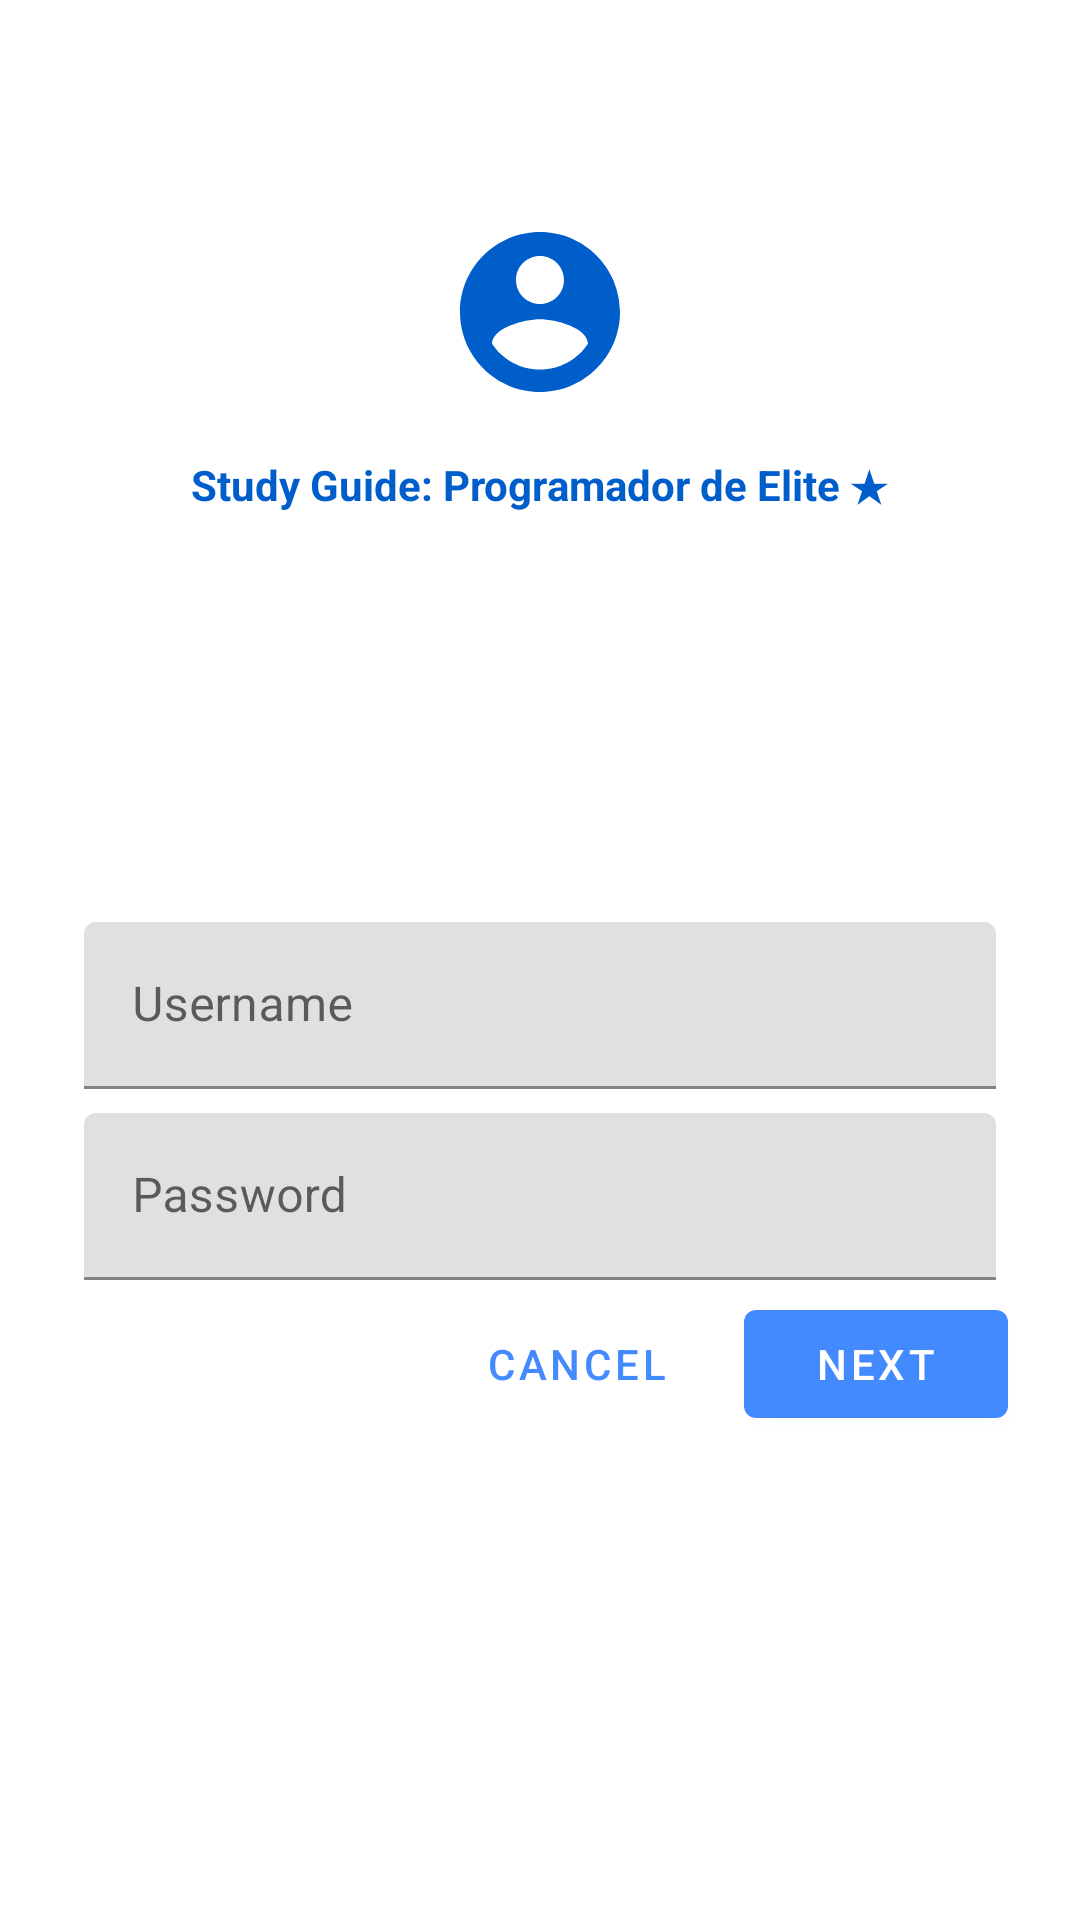

Screen size 1080*1920. Icon name, then its box in pixels as (x1, y1, x2, y2):
login: (459, 232, 620, 392)
